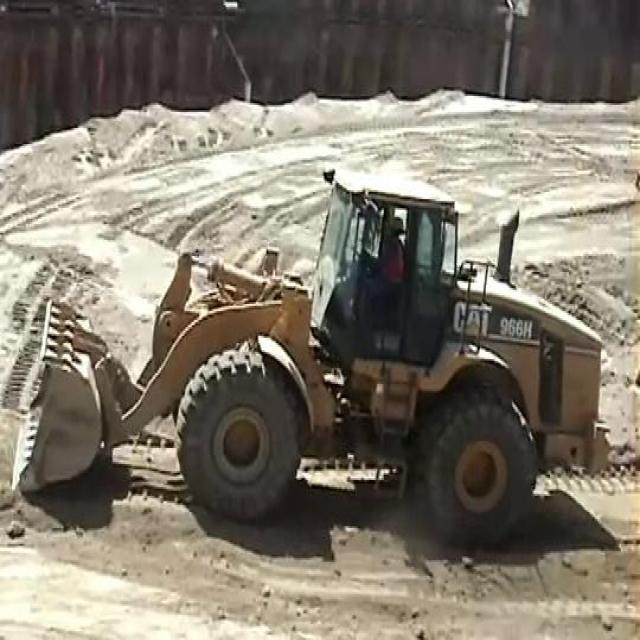Loader: (10, 167, 609, 548)
